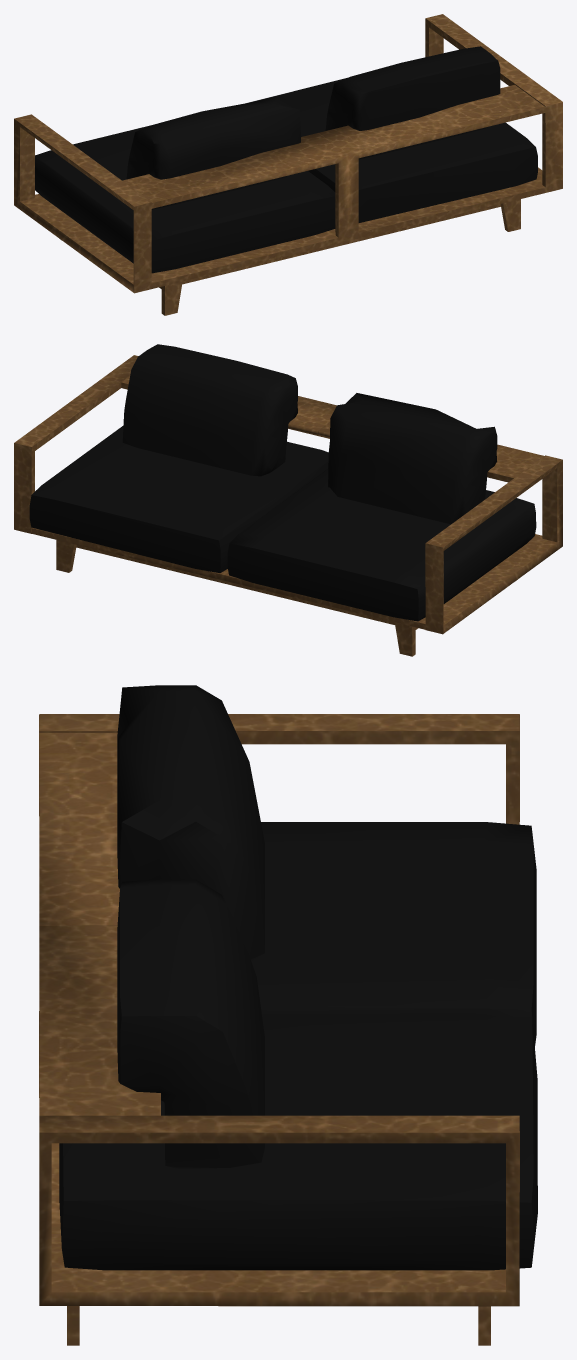
File: BanqutSofa.fbx
3 renders of one model, top to bottom at view 1: azimuth 30°, elevation 25°; view 2: azimuth 150°, elevation 25°; view 3: azimuth 270°, elevation 25°, orthographic. The views are drawn at different scales.
Parts seen in each view (by area): view 1: BanqutSofa; view 2: BanqutSofa; view 3: BanqutSofa.
Part boxes in pixels (box(x1,y1,x2,y2)): BanqutSofa: box(14, 14, 562, 315); BanqutSofa: box(14, 344, 562, 656); BanqutSofa: box(39, 685, 537, 1345).
Bounding box in the file's own units: 229 × 83.78 × 115.
2 materials, 1 textured.
